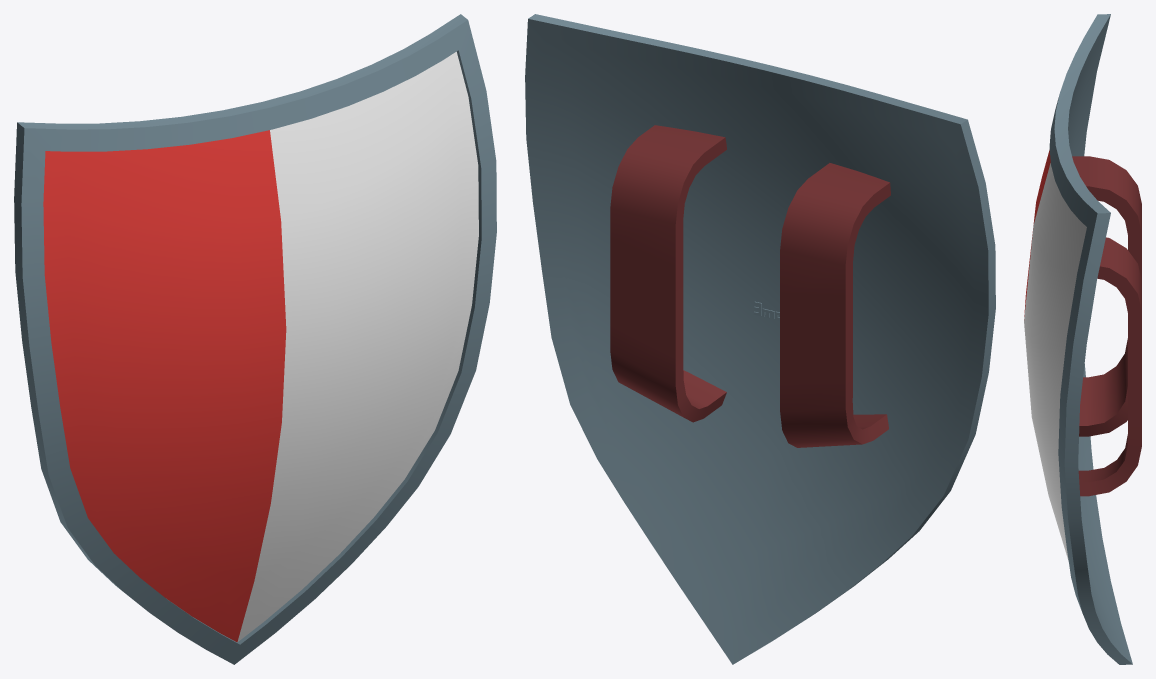
Rendered from shield.glb.
The picture shows the model from 3 angles, left to right: view 1: azimuth 30°, elevation 25°; view 2: azimuth 150°, elevation 25°; view 3: azimuth 270°, elevation 25°; orthographic projection. The views are drawn at different scales.
Parts seen in each view (by area): view 1: Plane.344; view 2: Plane.344; view 3: Plane.344.
Part boxes in pixels (x1=…): Plane.344: x1=14, y1=14, x2=496, y2=664; Plane.344: x1=525, y1=14, x2=995, y2=664; Plane.344: x1=1024, y1=14, x2=1141, y2=664.
Bounding box in the file's own units: 2 × 2.42 × 0.4697.
Materials: 1 (1 with a texture image).
